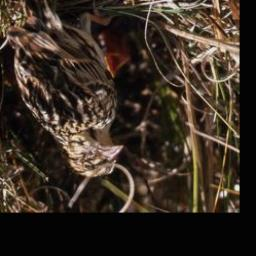Sparrow: (5, 0, 126, 178)
